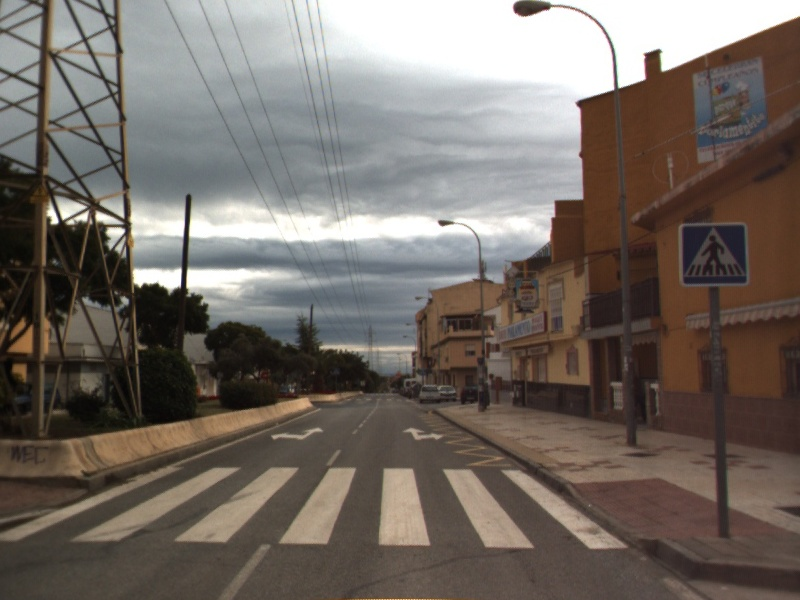STRAIGHT_LEFT: (269, 424, 326, 442)
STRAIGHT_RIGHT: (400, 425, 446, 442)
